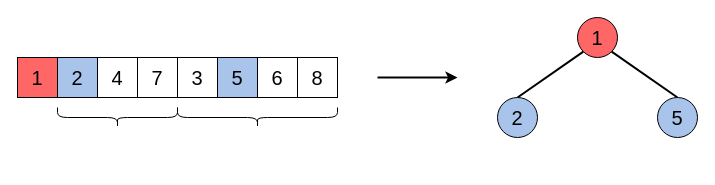
Image size: 715x185. Some labels were removed from this diagram. The shapes that lost their labels are listed below. From the top down, each one's box as (x1, y1, x2, y2) in pixels, then its label:
(56, 106, 178, 128): 左子树
(176, 106, 338, 128): 右子树
